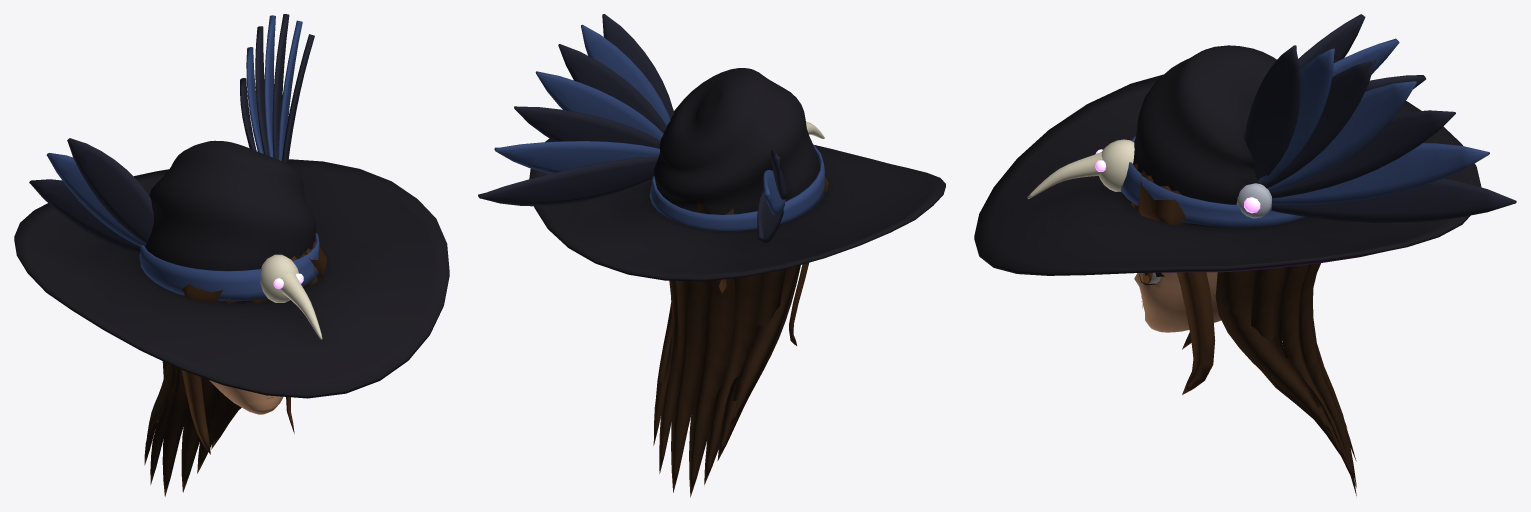
File: h_raven_f.glb
3 views of the same model, side by side, from view 1: azimuth 30°, elevation 25°; view 2: azimuth 150°, elevation 25°; view 3: azimuth 270°, elevation 25° (orthographic). The views are drawn at different scales.
Visible parts, largest first — view 1: RavenHat, HairLong, HairFrame, HeadMesh, HairTop; view 2: RavenHat, HairLong; view 3: RavenHat, HairLong, HairFrame, HeadMesh, HairTop.
Part boxes in pixels (box(x1,y1,x2,y2)): RavenHat: box(14, 14, 449, 398); HairLong: box(144, 361, 241, 496); HairFrame: box(181, 370, 294, 454); HeadMesh: box(209, 380, 283, 414); HairTop: box(181, 239, 326, 303); RavenHat: box(478, 14, 945, 281); HairLong: box(653, 265, 800, 497); RavenHat: box(974, 14, 1516, 275); HairLong: box(1215, 263, 1356, 495); HairFrame: box(1176, 272, 1215, 394); HeadMesh: box(1134, 272, 1221, 332); HairTop: box(1122, 163, 1191, 224).
Size of the model in its own units: 0.62 by 0.7269 by 0.7056.
